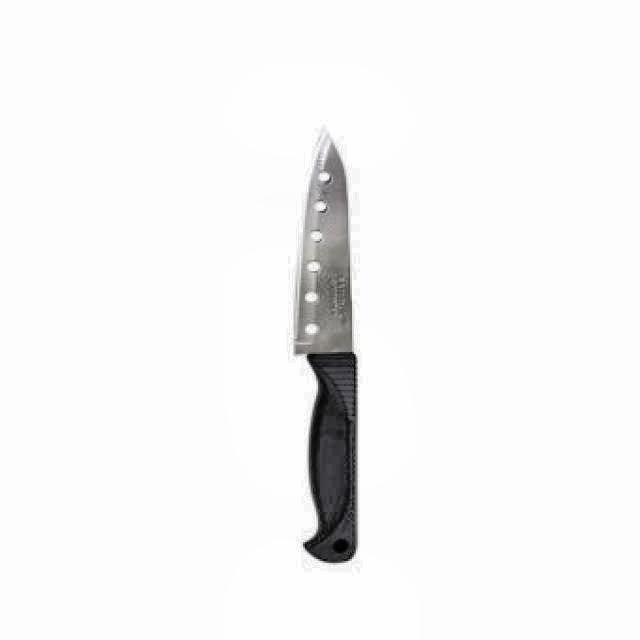knife: (293, 130, 361, 566)
